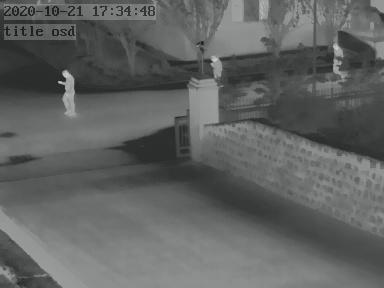person: (58, 67, 74, 115), (331, 40, 343, 79), (209, 54, 221, 81)
